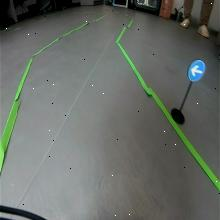left: (187, 58, 205, 82)
